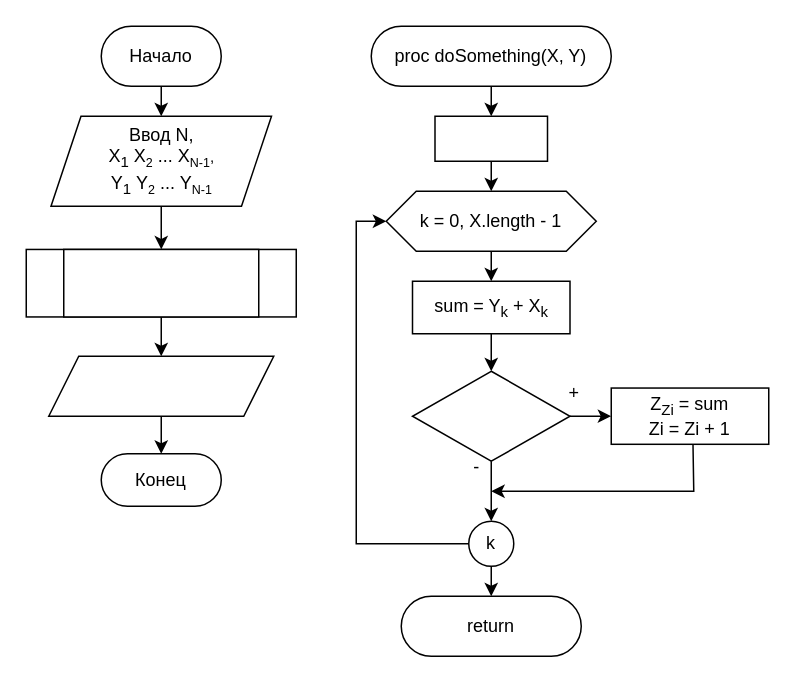
Some shapes in this 795 by 683 pixel diagram are drawn without their labels. The centre of each missing label's shape, as x and y in pixels:
"doSomething(X, Y)" belongs at (160,282).
"sum < 0" belongs at (490,415).
"Zi = 0" belongs at (491,138).
"Вывод Z 1 Z 2 ... Z N-1" belongs at (160,385).
